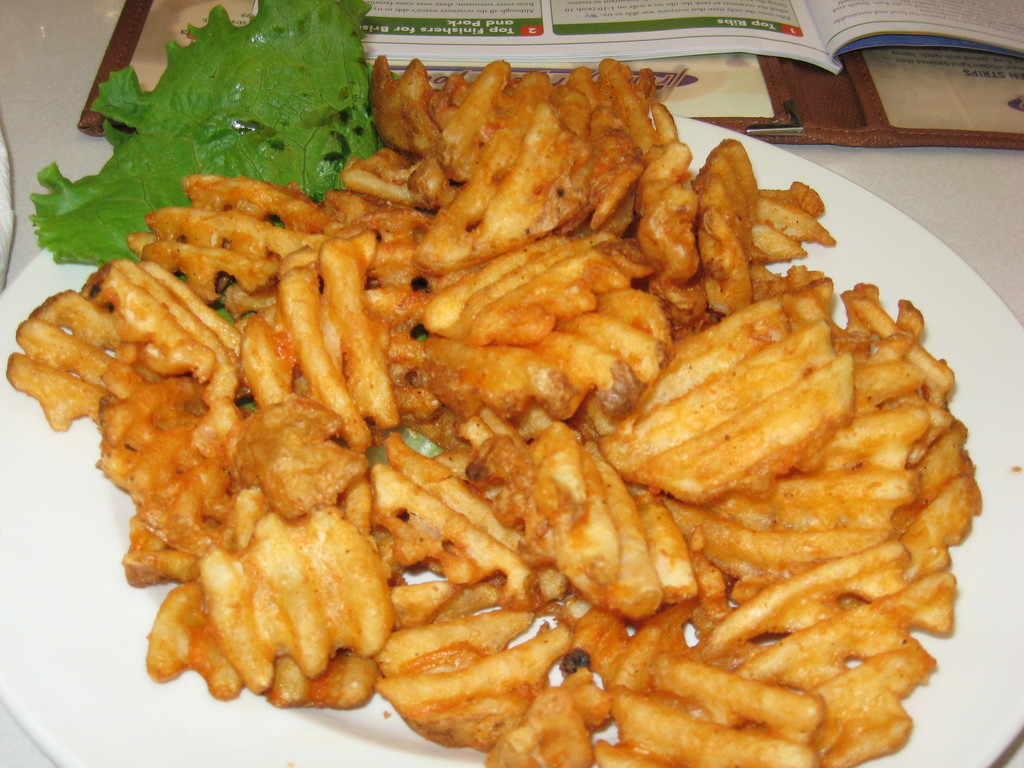French fries: (12, 34, 973, 767)
